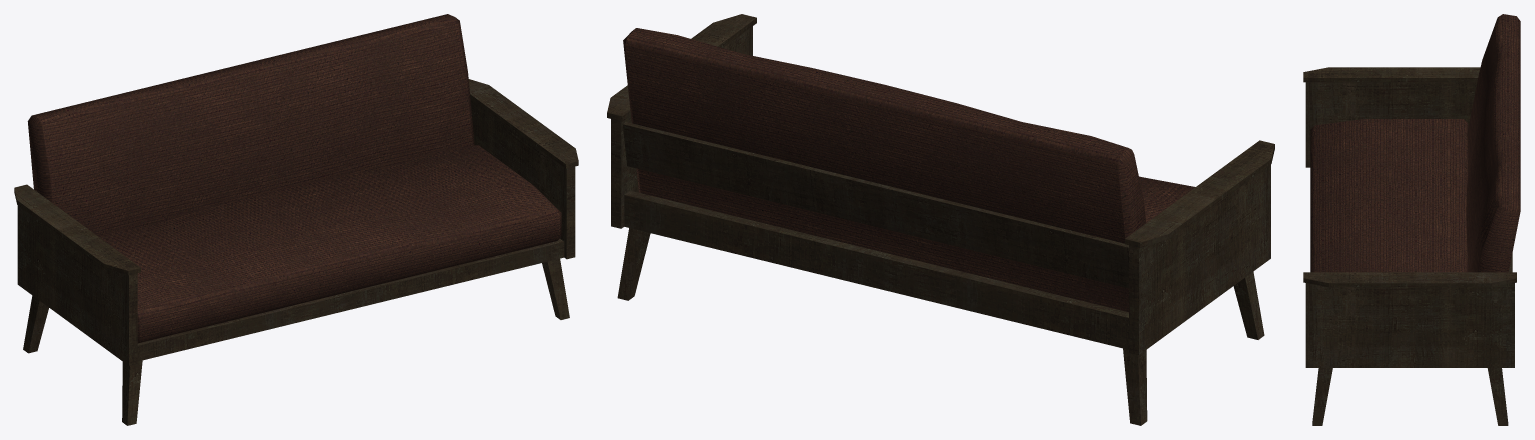
Rendered from sofa_4.glb.
The picture shows the model from 3 angles, left to right: view 1: azimuth 30°, elevation 25°; view 2: azimuth 150°, elevation 25°; view 3: azimuth 270°, elevation 25°; orthographic projection. The views are drawn at different scales.
Parts seen in each view (by area): view 1: sofa_4; view 2: sofa_4; view 3: sofa_4.
Part boxes in pixels (x1,y1,x2,y2): sofa_4: (14,14,578,425); sofa_4: (607,14,1274,425); sofa_4: (1303,14,1520,425).
Bounding box in the file's own units: 2.2 × 1.03 × 0.9346.
2 materials, 2 textured.
